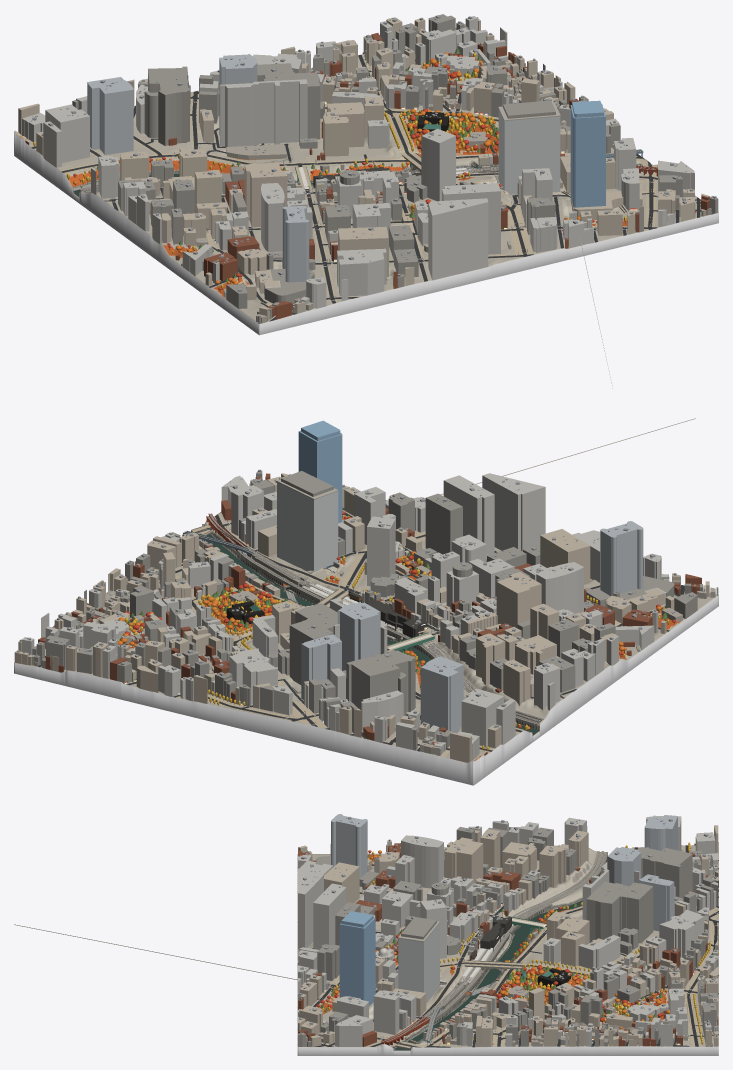
The model's file is city.glb.
3 views of the same model, one above another, from view 1: azimuth 30°, elevation 25°; view 2: azimuth 150°, elevation 25°; view 3: azimuth 270°, elevation 25° (orthographic). The views are drawn at different scales.
Visible parts, largest first — view 1: Terrain_DEM5A, Roads, B_0044, B_0016, Rooftop_Equipment, LM_sola_city_11, Trees_Placeholder, LM_waterras_tower_5, LM_juntendo_b_19, B_0010, B_0013, LM_shin_ochanomizu_bldg_42 (+34 smaller); view 2: Terrain_DEM5A, Roads, LM_sola_city_11, Rooftop_Equipment, B_0016, Trees_Placeholder, B_0010, B_0000, LM_juntendo_b_19, B_0020, B_0021, LM_waterras_tower_5 (+39 smaller); view 3: Terrain_DEM5A, Roads, B_0004, Rooftop_Equipment, Trees_Placeholder, LM_waterras_tower_5, LM_sola_city_11, B_0000, B_0010, LM_meiji_academy_common_24, Rail_JR, B_0020 (+34 smaller).
Part boxes in pixels (x1,y1,x2,y2): Terrain_DEM5A: [14, 54, 718, 335]; Roads: [14, 54, 714, 321]; B_0044: [220, 79, 307, 147]; B_0016: [428, 198, 488, 280]; Rooftop_Equipment: [31, 15, 716, 307]; LM_sola_city_11: [498, 109, 560, 194]; Trees_Placeholder: [33, 48, 627, 292]; LM_waterras_tower_5: [570, 103, 605, 207]; LM_juntendo_b_19: [87, 77, 133, 154]; B_0010: [148, 66, 189, 145]; B_0013: [337, 248, 386, 296]; LM_shin_ochanomizu_bldg_42: [421, 128, 455, 201]; Terrain_DEM5A: [14, 508, 718, 785]; Roads: [38, 508, 699, 760]; LM_sola_city_11: [277, 482, 338, 571]; Rooftop_Equipment: [17, 469, 695, 745]; B_0016: [482, 473, 545, 551]; Trees_Placeholder: [118, 511, 675, 750]; B_0010: [346, 650, 415, 712]; B_0000: [600, 521, 643, 595]; LM_juntendo_b_19: [420, 656, 463, 733]; B_0020: [443, 475, 494, 554]; B_0021: [337, 602, 380, 670]; LM_waterras_tower_5: [298, 430, 342, 522]; Terrain_DEM5A: [297, 842, 718, 1055]; Roads: [297, 842, 718, 1047]; B_0004: [586, 881, 653, 943]; Rooftop_Equipment: [299, 816, 717, 1042]; Trees_Placeholder: [316, 842, 718, 1044]; LM_waterras_tower_5: [339, 918, 375, 1006]; LM_sola_city_11: [398, 923, 439, 1002]; B_0000: [331, 814, 367, 877]; B_0010: [638, 847, 692, 898]; LM_meiji_academy_common_24: [401, 835, 443, 888]; Rail_JR: [382, 851, 605, 1042]; B_0020: [313, 883, 346, 949].
Size of the model in its own units: 797 by 187 by 1222.
